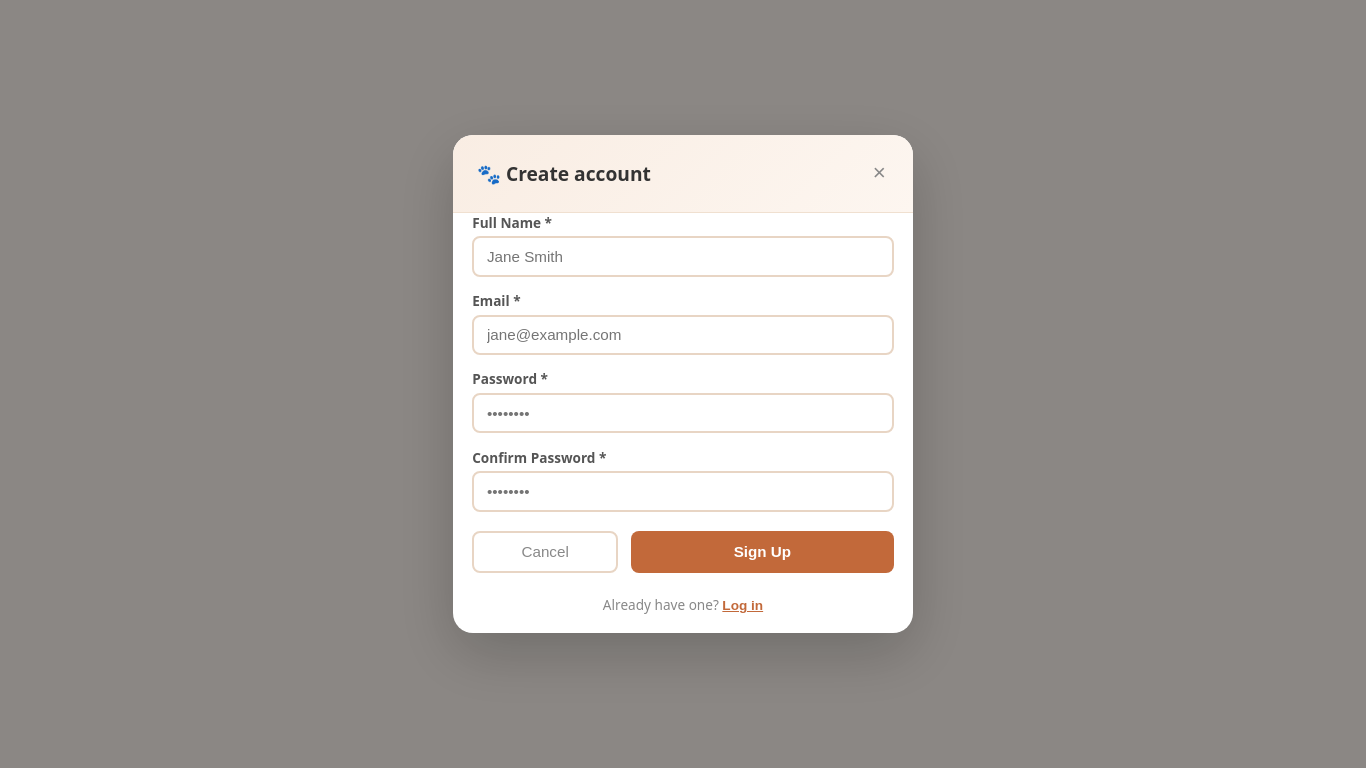
AuthModal – mode switching › switches from signup to login when "Log in" link is clicked
Click the button "Log in" at [743, 606], box [722,598,763,613]
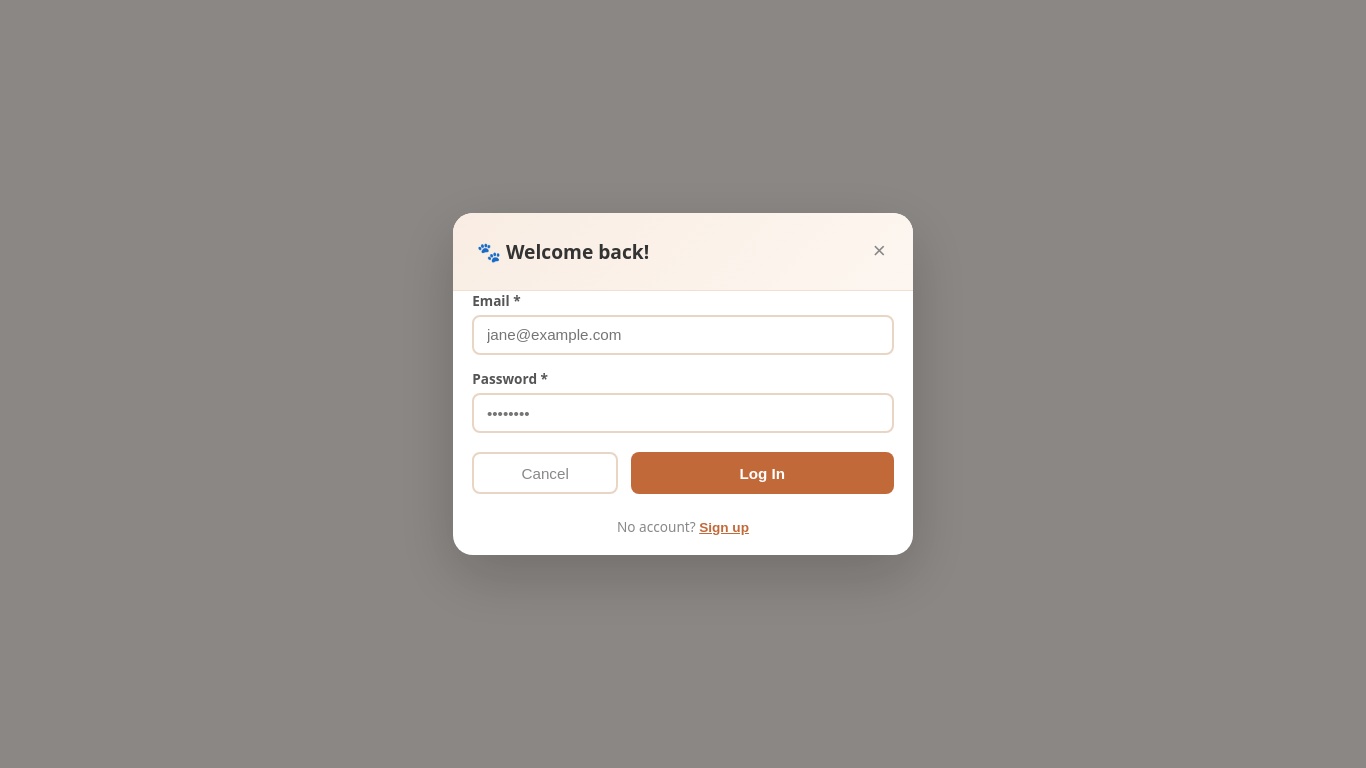
Result: the button "Log In" is shown at [631,452,894,494]
